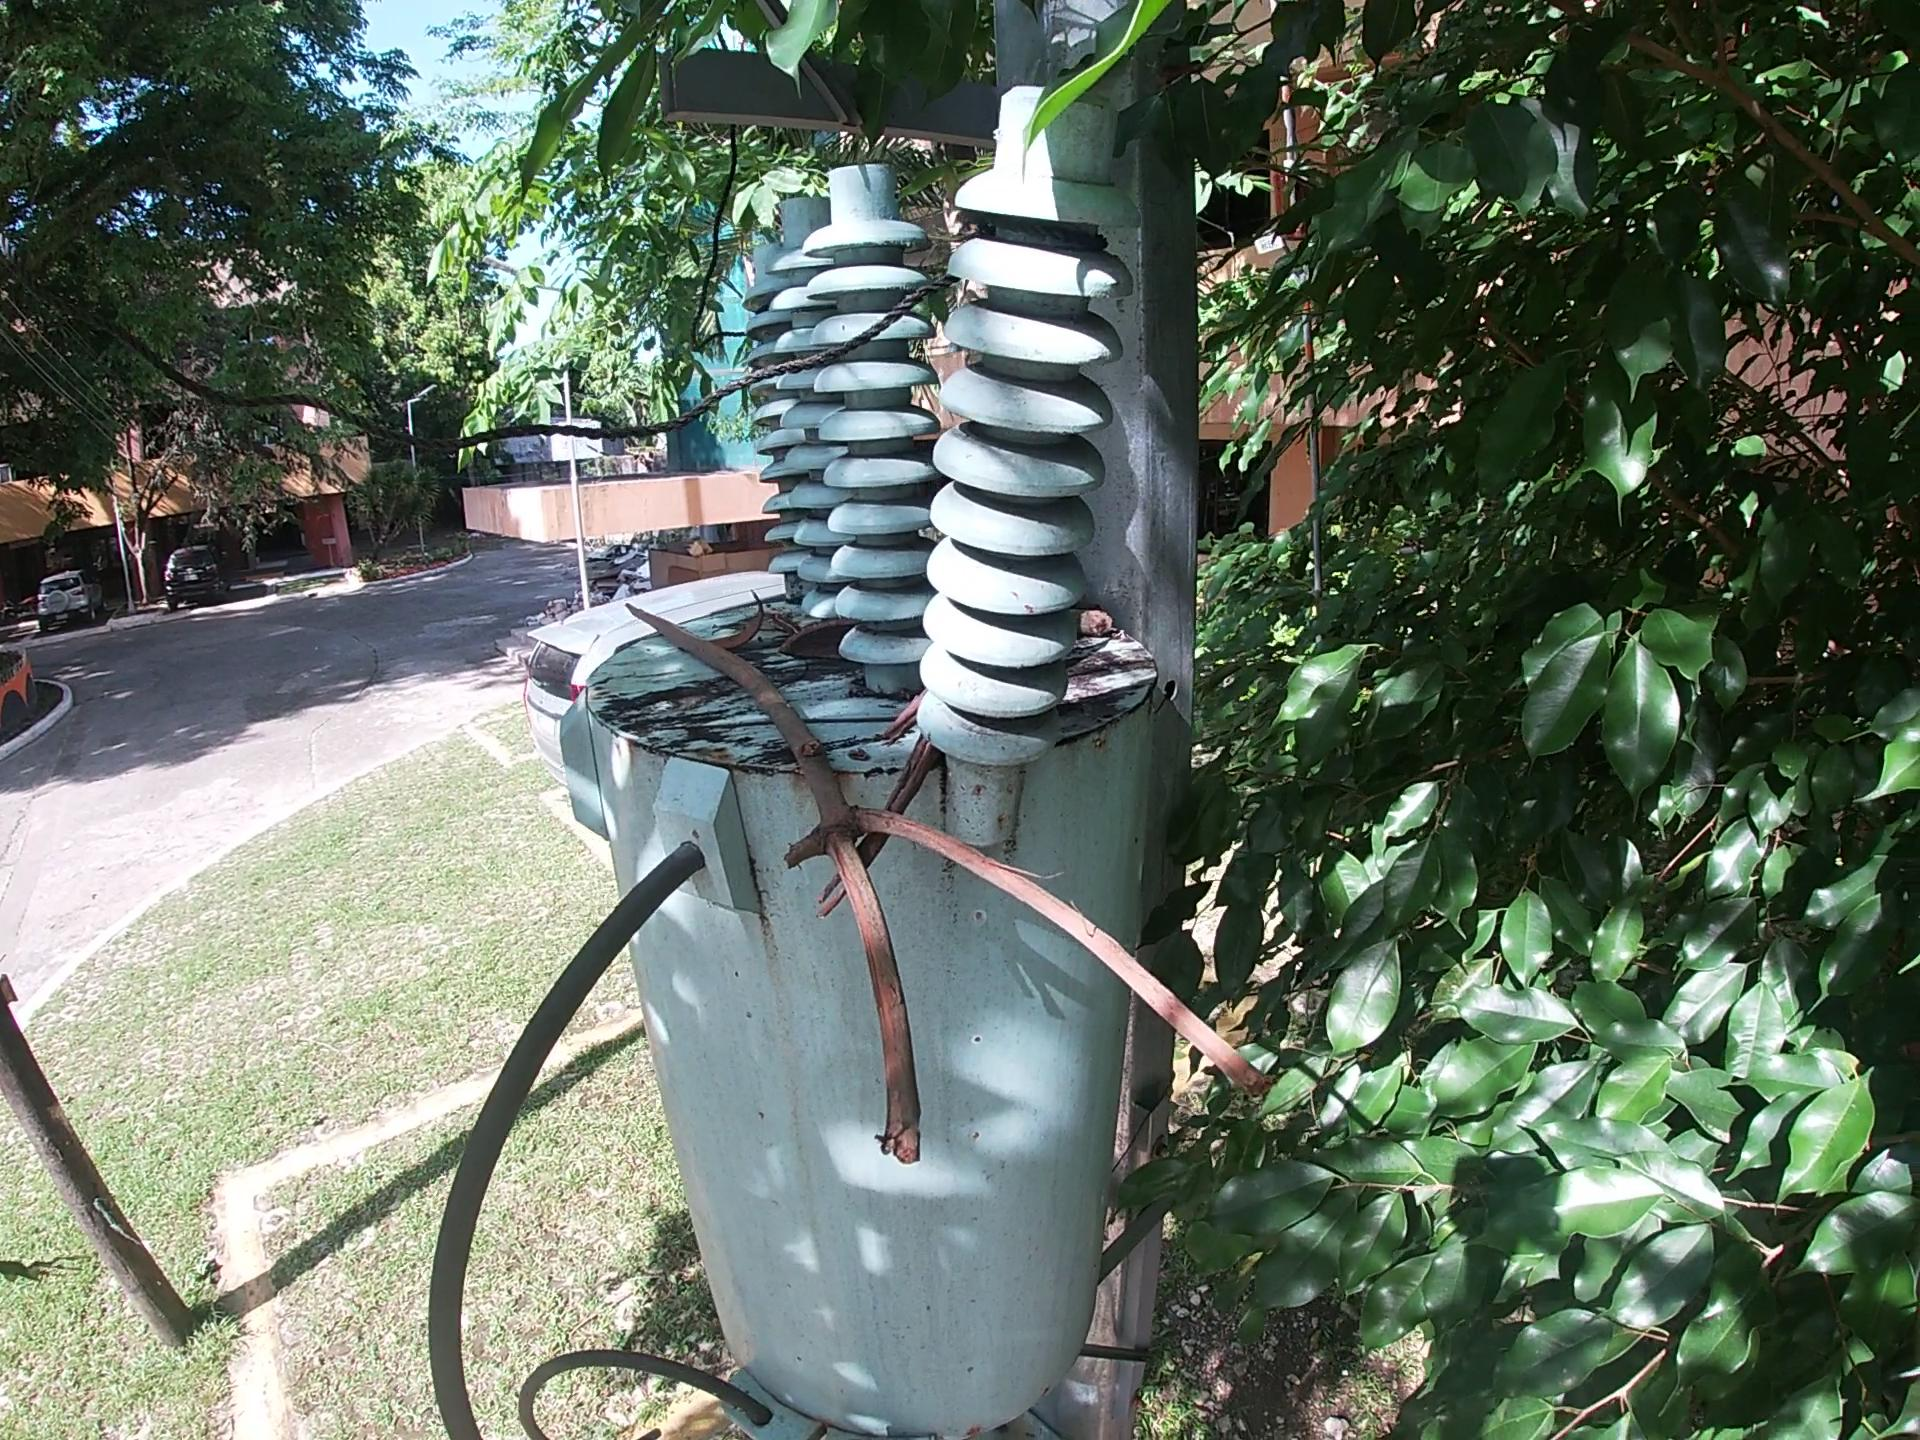mahogany fruit: (780, 622, 859, 681), (703, 588, 766, 643)
tree branch: (621, 594, 1297, 1262), (828, 735, 937, 911), (881, 690, 922, 746), (1072, 607, 1113, 635)
